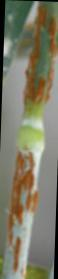Wheat: (17, 153, 36, 206), (9, 209, 23, 272), (29, 62, 51, 100), (38, 8, 56, 54)
